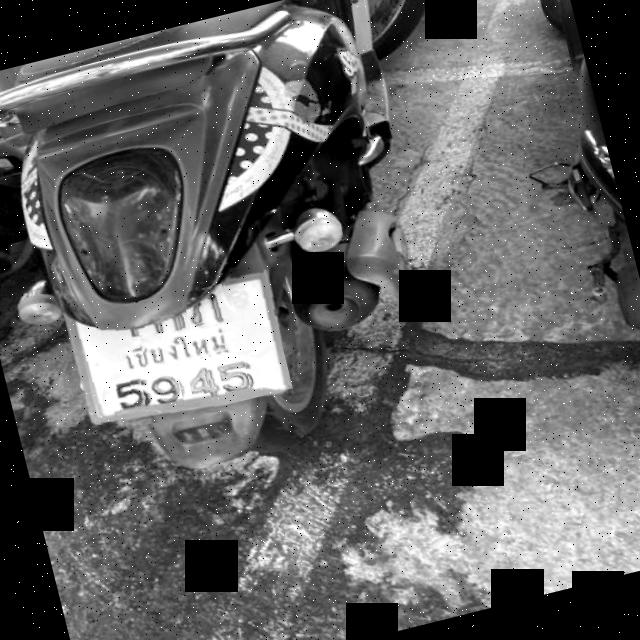letters: (138, 292, 184, 340), (182, 284, 230, 326), (101, 302, 148, 343), (106, 372, 148, 417), (148, 370, 185, 414), (215, 354, 251, 397), (186, 364, 212, 397)
license-plate: (70, 274, 288, 421)
province: (106, 320, 242, 380)
